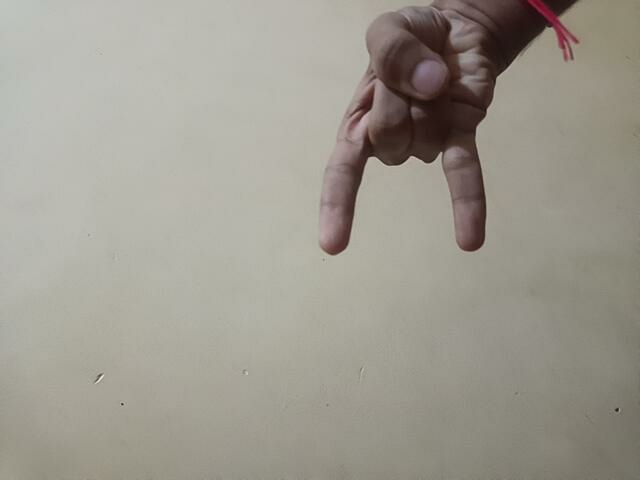Rock: (319, 2, 495, 256)
